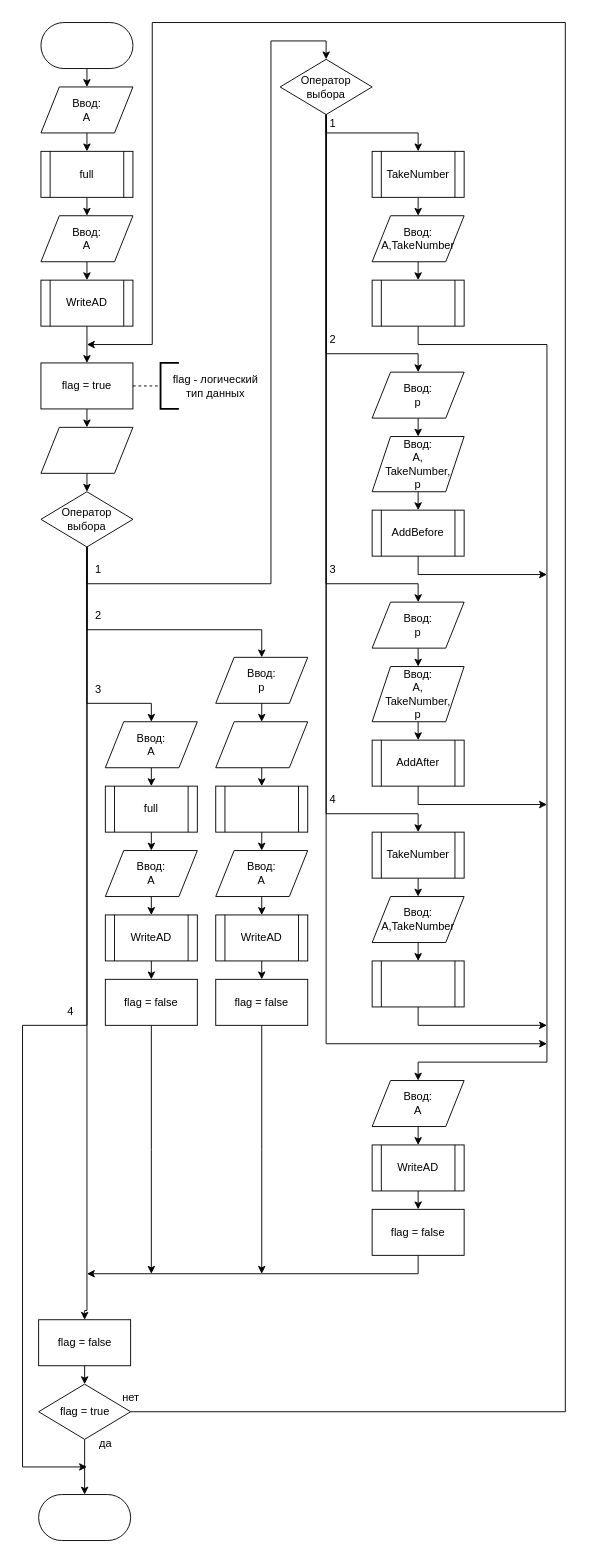
Image size: 589x1557. Some labels were removed from this diagram. Here are the shapes that lost their labels. From the top down, the centre of each, then its label:
pixel 86 45: начало
pixel 417 302: AddFirst
pixel 86 449: Ввод: b
pixel 261 744: Ввод: A, p
pixel 261 808: delete
pixel 417 983: AddLast
pixel 84 1517: конец
